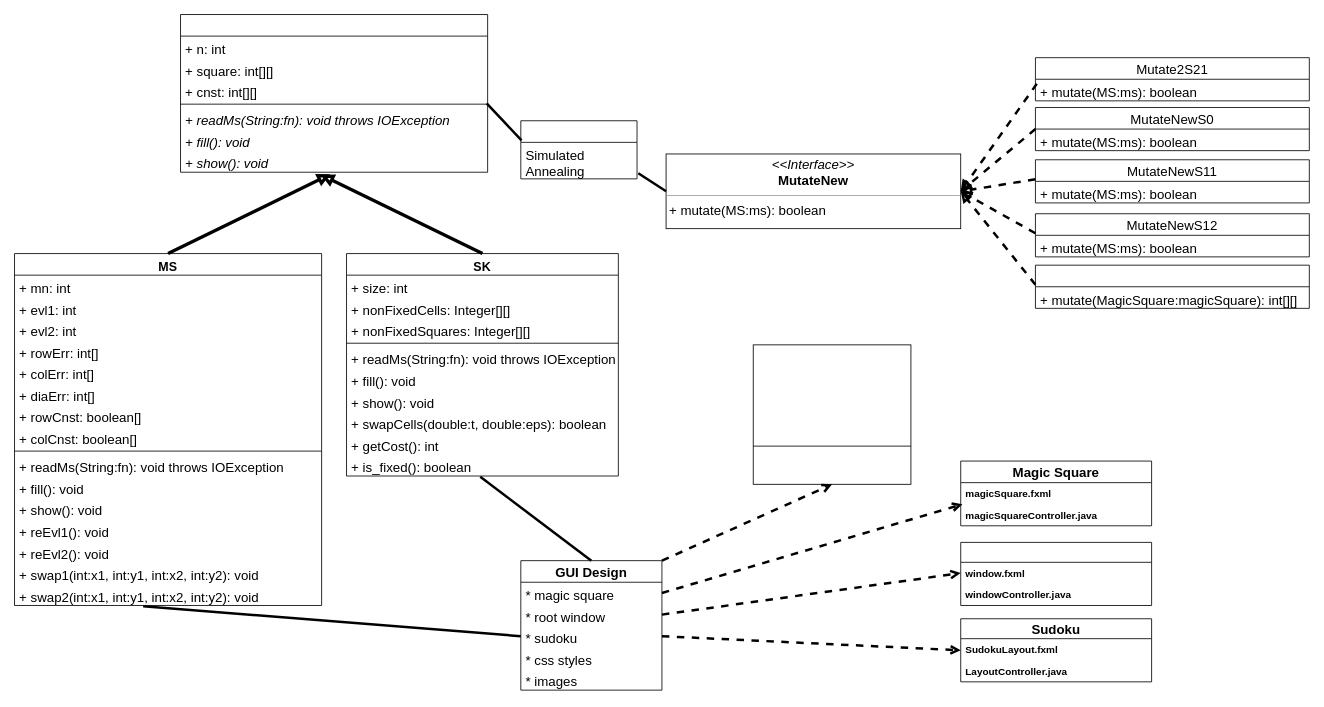
The diagram is 1324 pixels wide and 707 high, and some of its shapes have lost their labels. Each missing label, with the box of its shape:
<<Enumeration>> Condition START PAUSED CONTINUE + toString(): String: (752, 344, 911, 484)
Algorithm: (520, 120, 637, 179)
MutateNewS13: (1035, 264, 1309, 308)
Root Window: (960, 542, 1152, 605)
SquareProblem: (180, 14, 488, 172)
